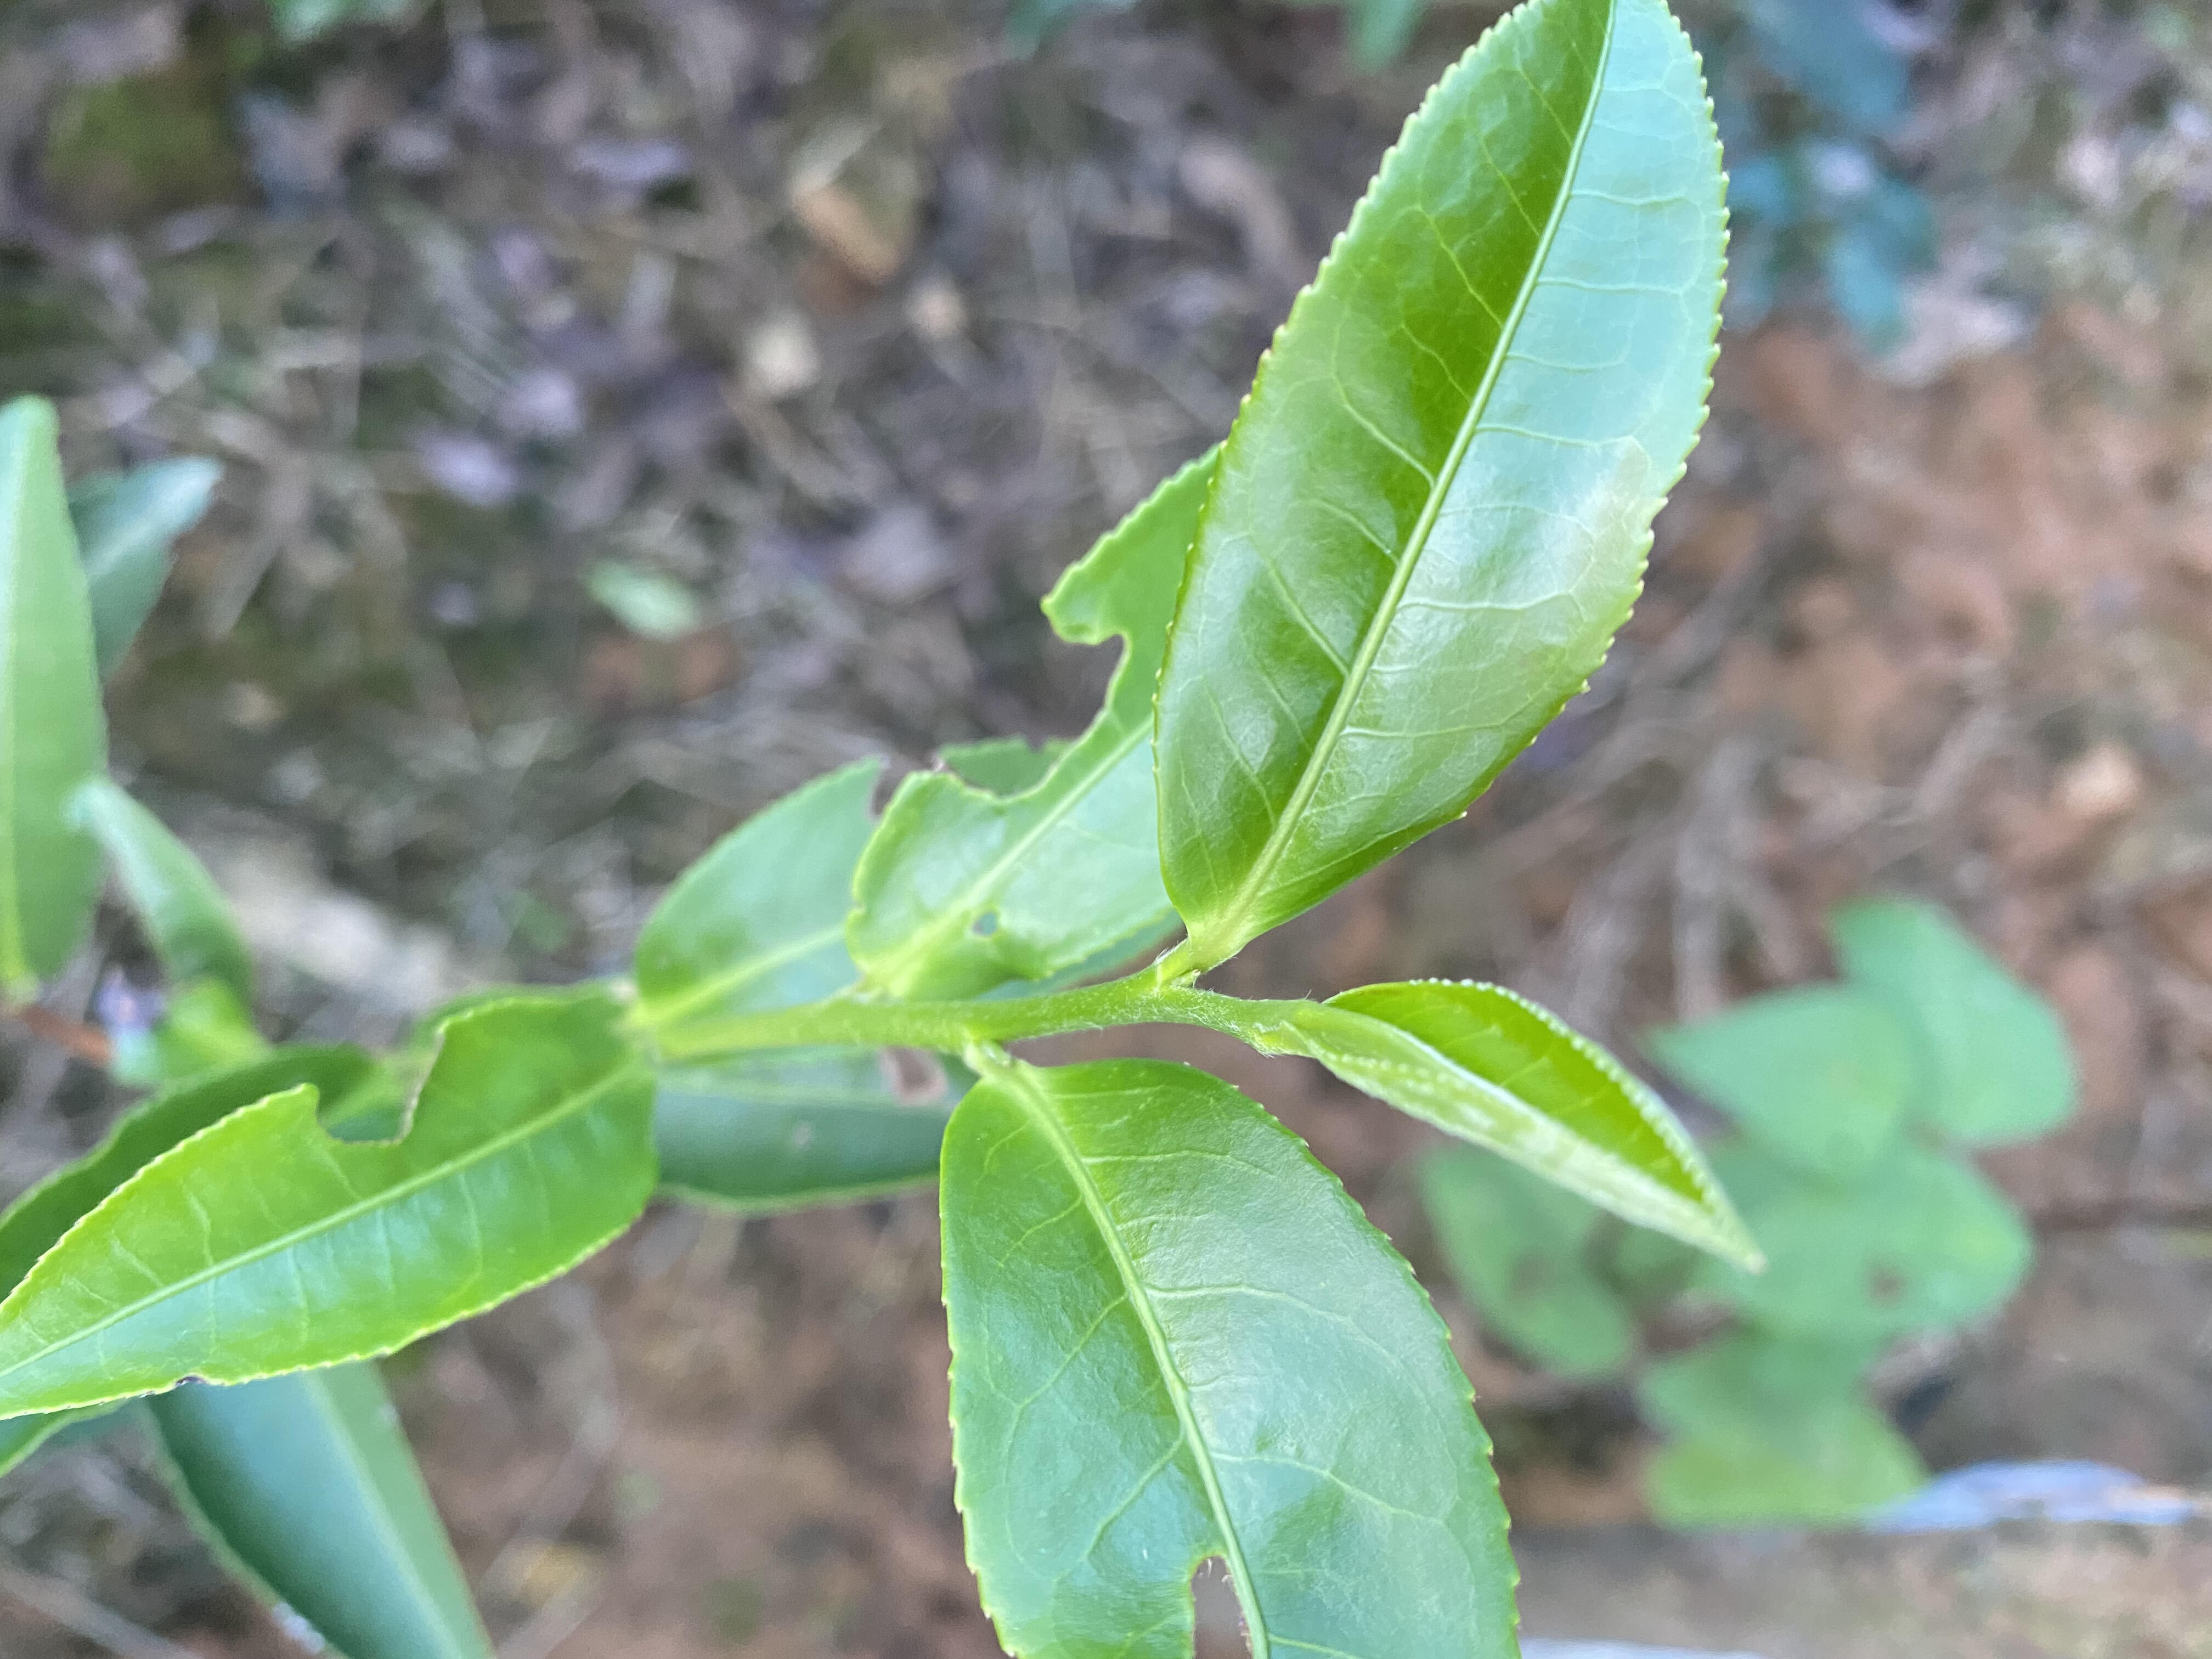chihuo_high: (3, 999, 658, 1422), (846, 441, 1228, 999)
chihuo_low: (939, 1056, 1521, 1656)
healthy: (1153, 3, 1733, 955)
